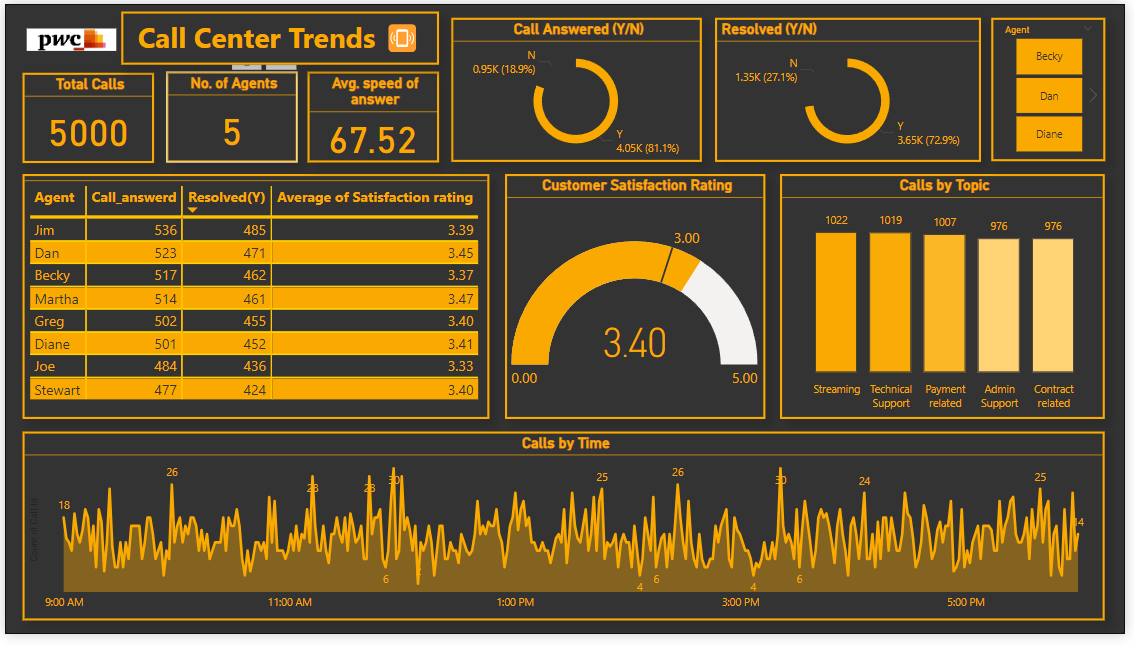

Layout of this report page (visuals, bound fields, positions):
{"tool":"powerbi","page":{"name":"Page 1","canvas":[1280,720],"ordinal":0},"visuals":[{"type":"card","title":"Total Calls ","fields":{"Values":["Sheet1.Call Id"]},"box":[20,77.9,150,102.9],"z":0},{"type":"card","title":"No. of Agents","fields":{"Values":["Sheet1.Topic"]},"box":[183.8,77.5,150,103.8],"z":1000},{"type":"tableEx","fields":{"Values":["Sheet1.Agent","Sheet1.Call_answerd","Sheet1.Resolved(Y)","Sheet1.Satisfaction rating"]},"box":[20,193.8,533.8,280],"z":2000},{"type":"donutChart","title":"Call Answered (Y/N)","fields":{"Category":["Sheet1.Answered (Y/N)"],"Y":["Sheet1.Answered (Y/N)"]},"box":[510,16.2,286.2,165],"z":3000},{"type":"card","title":"Avg. speed of answer","fields":{"Values":["Sheet1.Speed of answer in seconds"]},"box":[346.2,77.5,150,103.8],"z":4000},{"type":"donutChart","title":"Resolved (Y/N)","fields":{"Category":["Sheet1.Resolved"],"Y":["Sheet1.Resolved"]},"box":[811.2,16.2,303.8,165],"z":5000},{"type":"gauge","title":"Customer Satisfaction Rating","fields":{"Y":["Sheet1.Satisfaction rating"]},"box":[571.2,193.8,297.5,280],"z":6000},{"type":"columnChart","title":"Calls by Topic","fields":{"Category":["Sheet1.Topic"],"Y":["Sheet1.Call Id"]},"box":[886.2,193.8,371.2,280],"z":7000},{"type":"areaChart","title":" Calls by Time","fields":{"Category":["Sheet1.Time"],"Y":["Sheet1.Call Id"]},"box":[20,488.6,1237.1,215.7],"z":8000},{"type":"slicer","fields":{"Values":["Sheet1.Agent"]},"box":[1127.5,16.2,130,163.8],"z":9000},{"type":"image","box":[20.5,20.5,112.2,41],"z":10000},{"type":"textbox","box":[133,8,363,61],"z":11000}]}

Visuals, with their boxes in screenshot pixels (x1, y1, x2, y2), scaled from the page's 1280x720 canvas onto the 1134x646 screenshot:
"Total Calls " card: box(18, 70, 151, 162)
"No. of Agents" card: box(163, 70, 296, 163)
tableEx - Sheet1.Agent x Sheet1.Call_answerd: box(18, 174, 491, 425)
"Call Answered (Y/N)" donutChart: box(452, 15, 705, 163)
"Avg. speed of answer" card: box(307, 70, 440, 163)
"Resolved (Y/N)" donutChart: box(719, 15, 988, 163)
"Customer Satisfaction Rating" gauge: box(506, 174, 770, 425)
"Calls by Topic" columnChart: box(785, 174, 1114, 425)
" Calls by Time" areaChart: box(18, 438, 1114, 632)
slicer - Sheet1.Agent: box(999, 15, 1114, 162)
image: box(18, 18, 118, 55)
textbox: box(118, 7, 439, 62)
